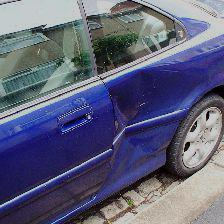door_dent: (96, 64, 201, 195)
